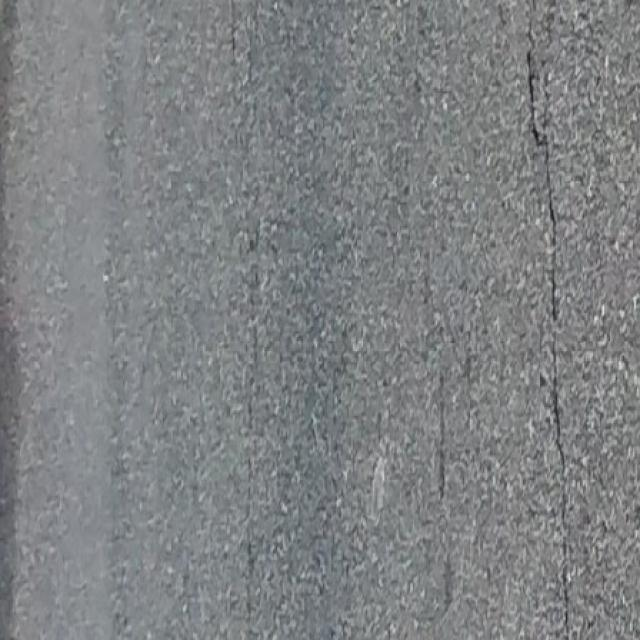Vertical Crack: (523, 0, 576, 639)
